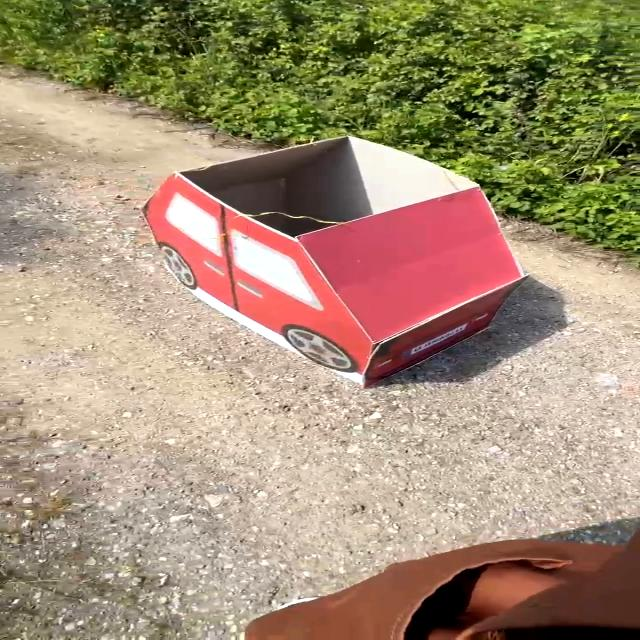red_car: (44, 125, 562, 393)
